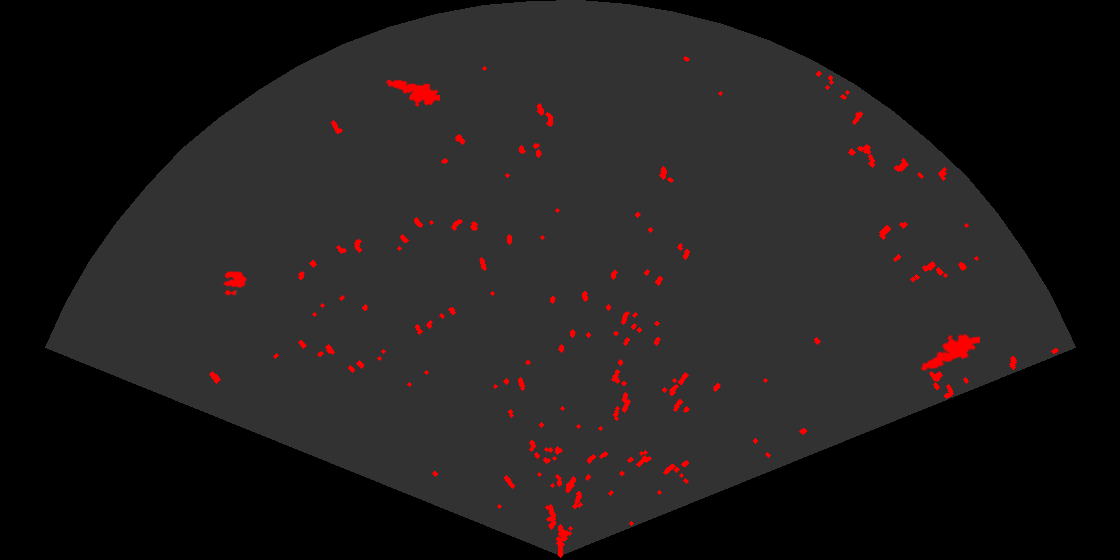ball: (221, 270, 248, 297)
frogman: (919, 332, 980, 372), (384, 78, 440, 109)
